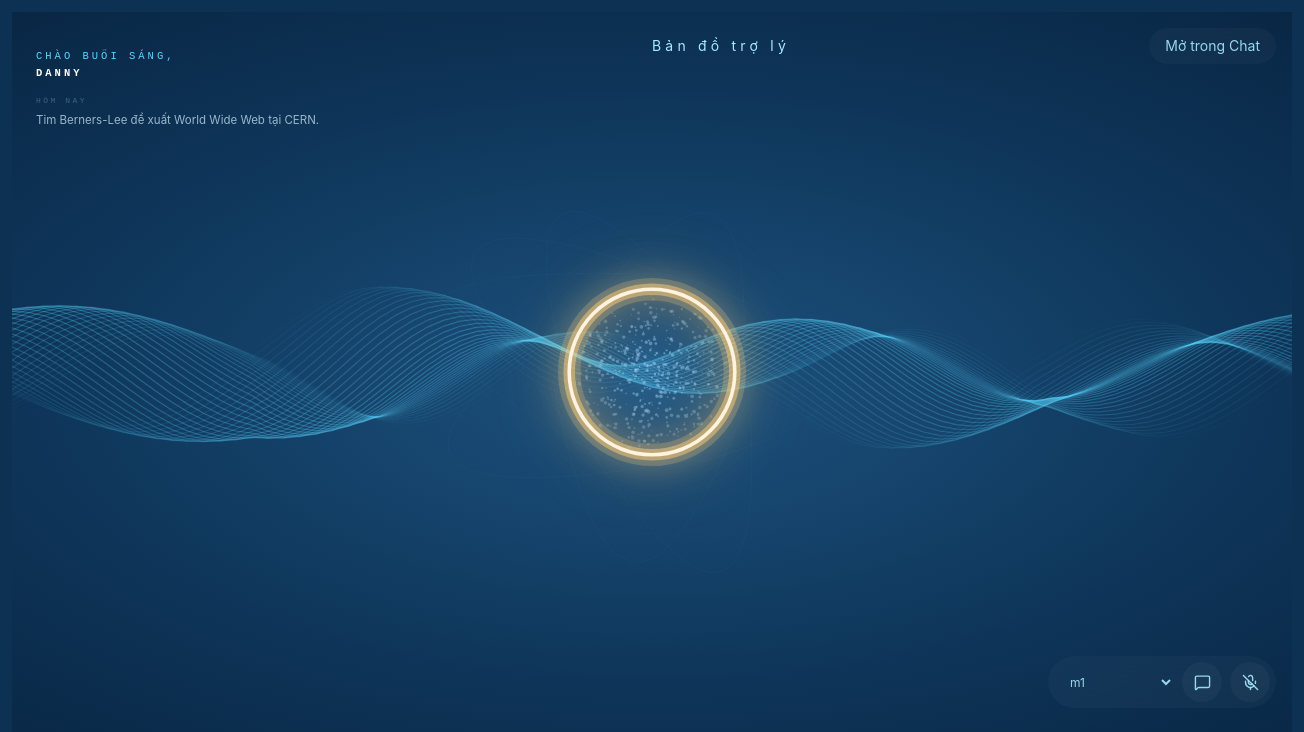
it: ConstellationClient — panel/pill không sót qua lượt (Critical 1) › lượt 1 có descriptor → panel mở; lượt 2 KHÔNG có descriptor → panel đóng, không sót pill cũ
Click the button named "Trò chuyện" at (1202, 682), box [1182, 662, 1222, 702]
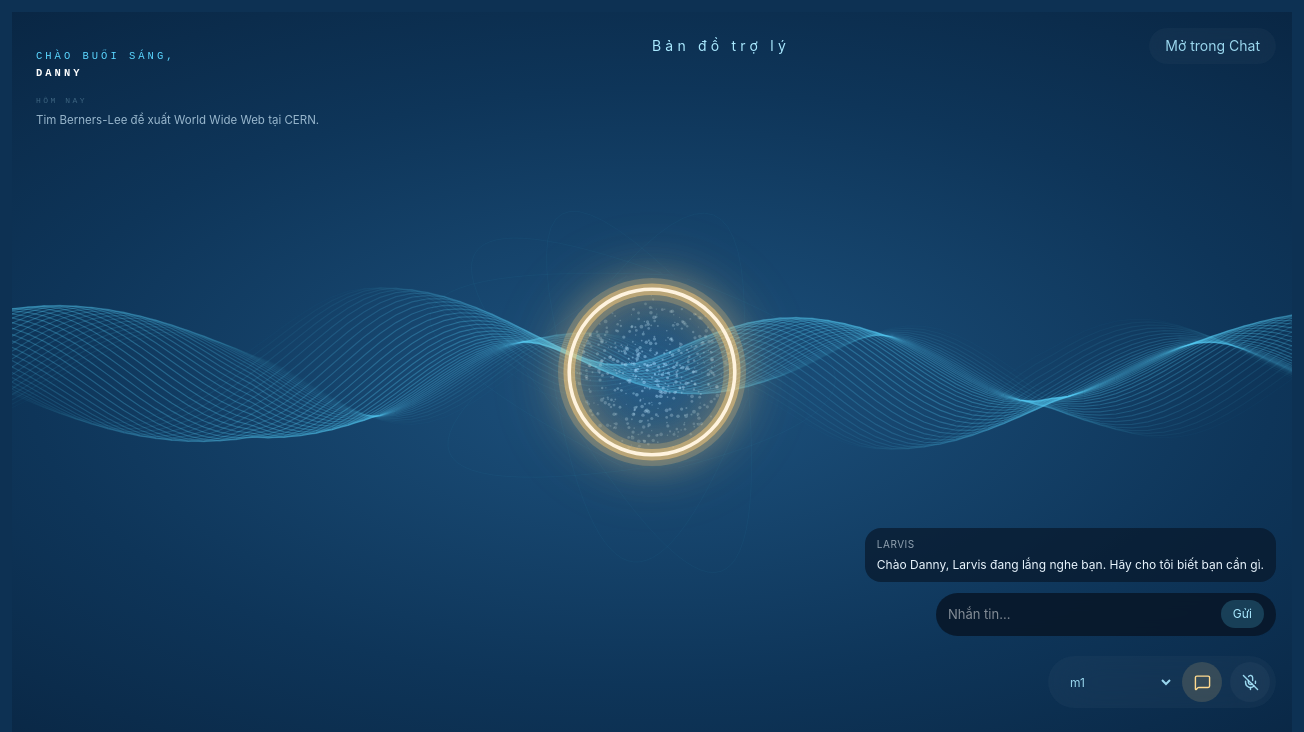
expect the field with placeholder "Nhắn tin…" is shown: met
Type "lượt 1" into the field with placeholder "Nhắn tin…" at (1080, 614), box [948, 596, 1213, 632]
Press Enter in the field with placeholder ".", box [948, 596, 1213, 632]
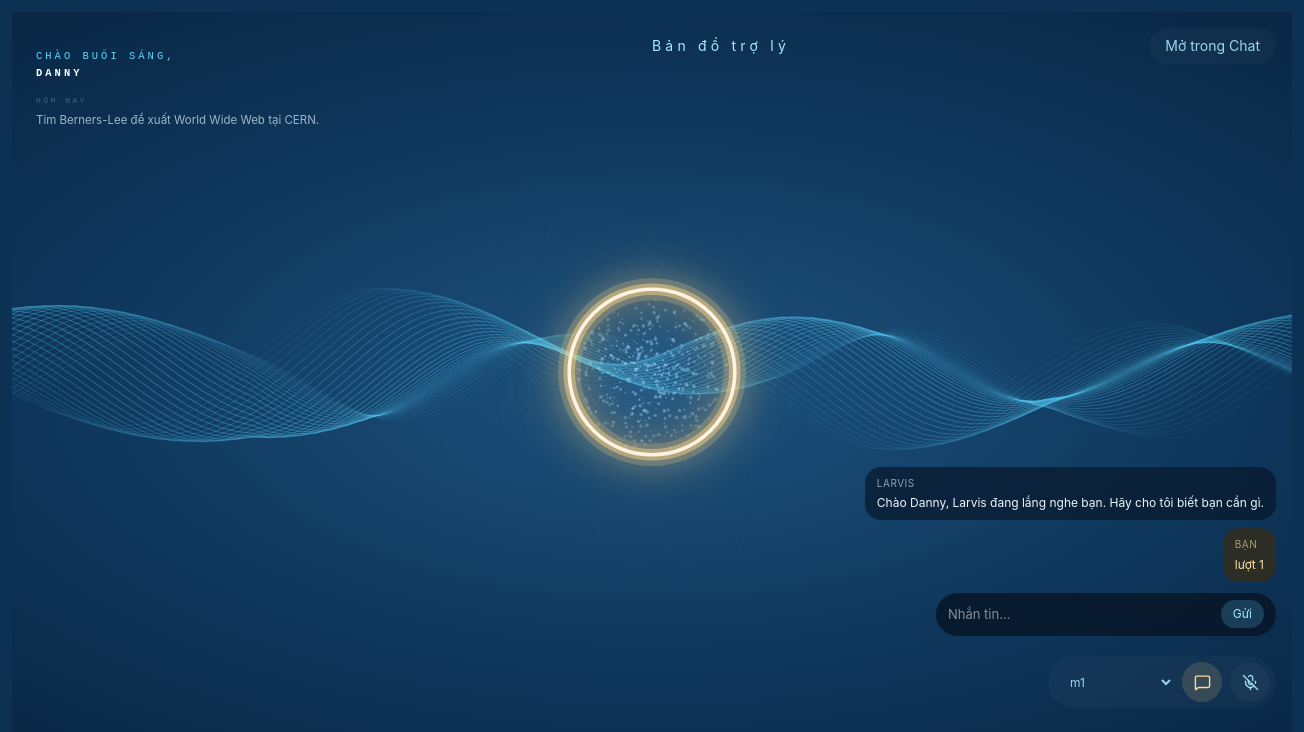
Click the button named "Trò chuyện" at (1202, 682), box [1182, 662, 1222, 702]
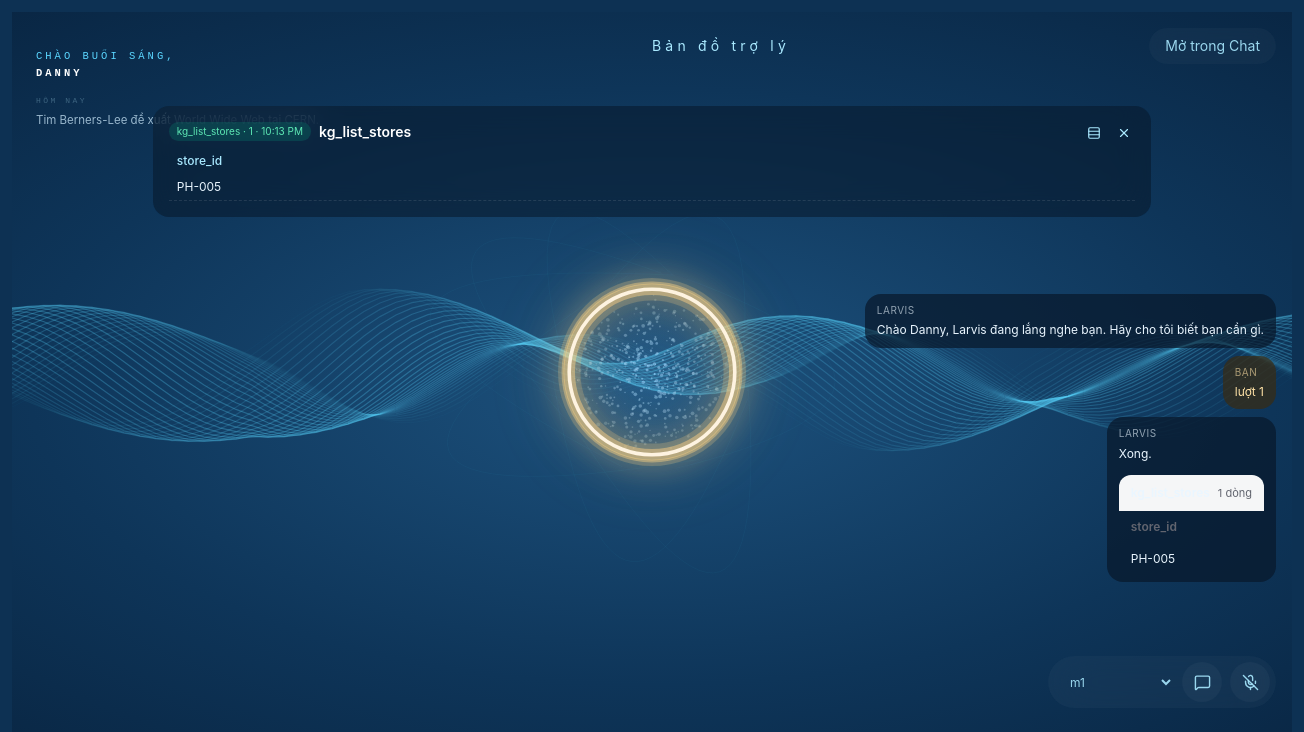
expect the element "kg_list_stores" is shown: met, box [153, 106, 1151, 217]
Click the button named "Trò chuyện" at (1202, 682), box [1182, 662, 1222, 702]
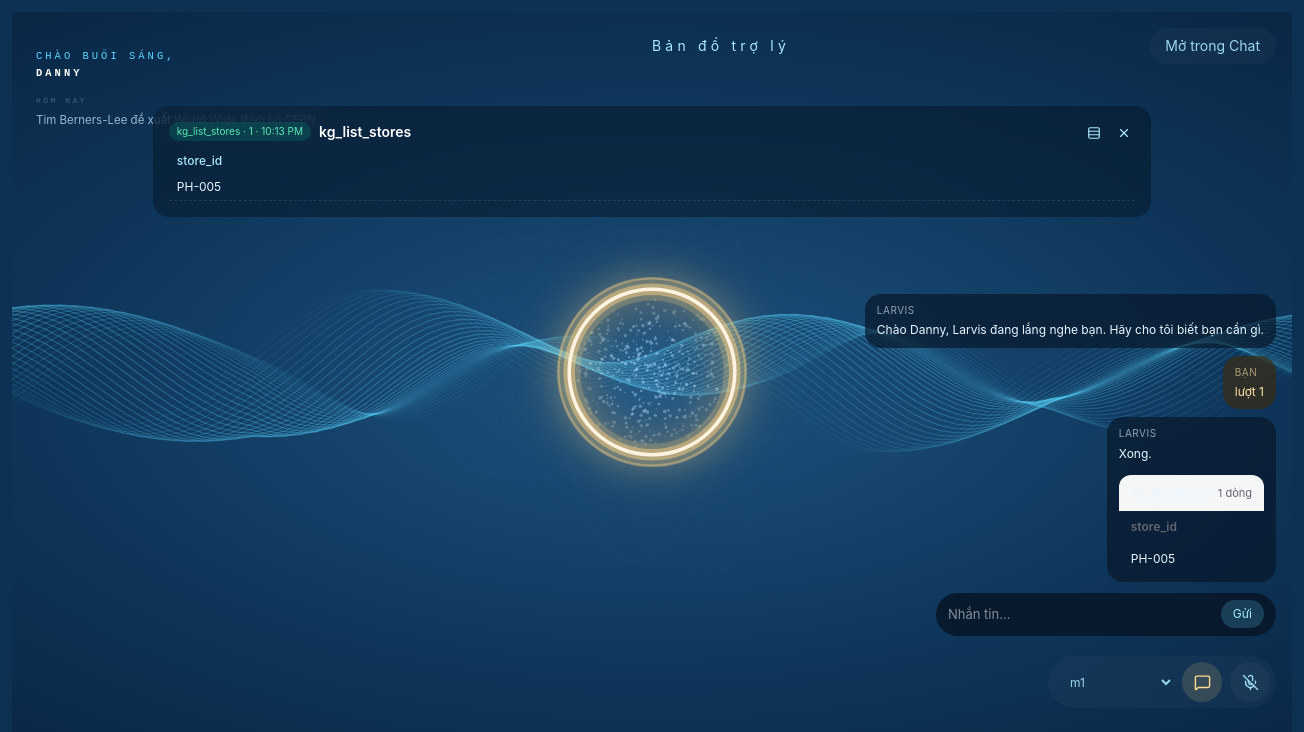
expect the field with placeholder "Nhắn tin…" is shown: met
Type "lượt 2" into the field with placeholder "Nhắn tin…" at (1080, 614), box [948, 596, 1213, 632]
Press Enter in the field with placeholder ".", box [948, 596, 1213, 632]
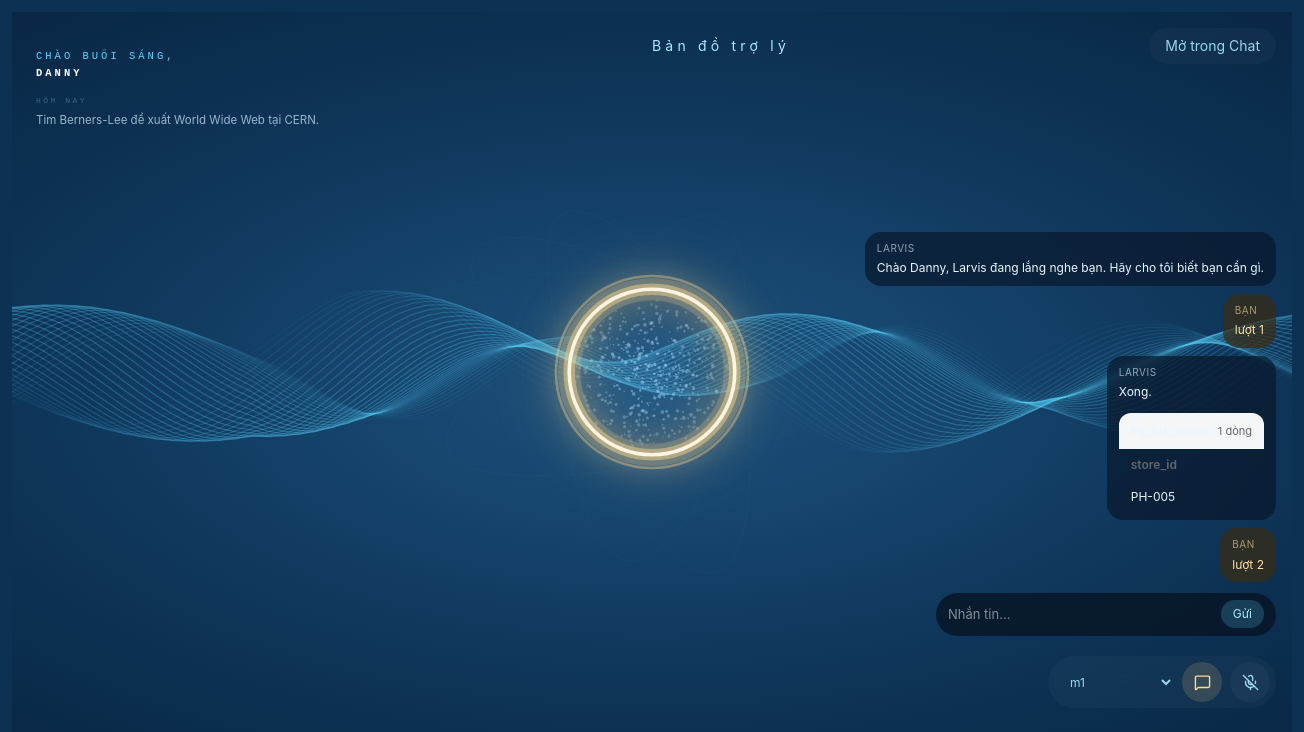
Click the button named "Trò chuyện" at (1202, 682), box [1182, 662, 1222, 702]
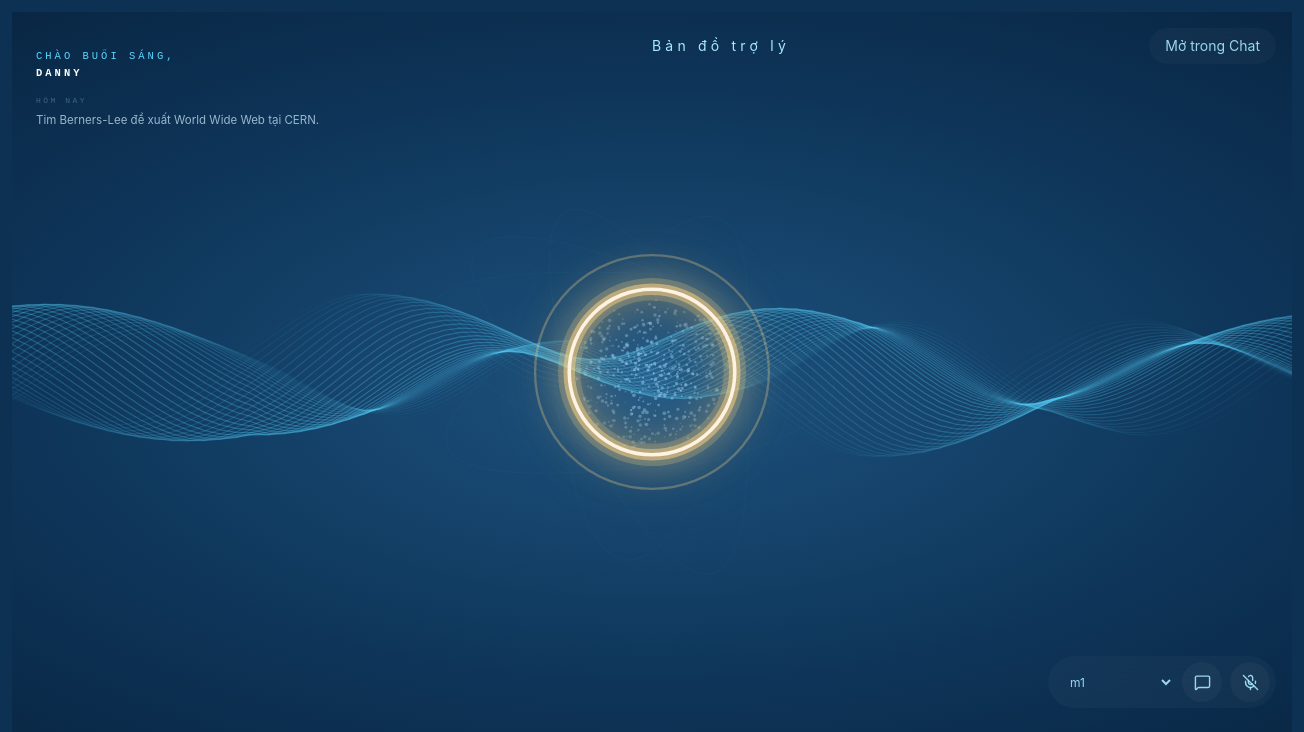
expect the text "kg_list_stores" is gone: met
